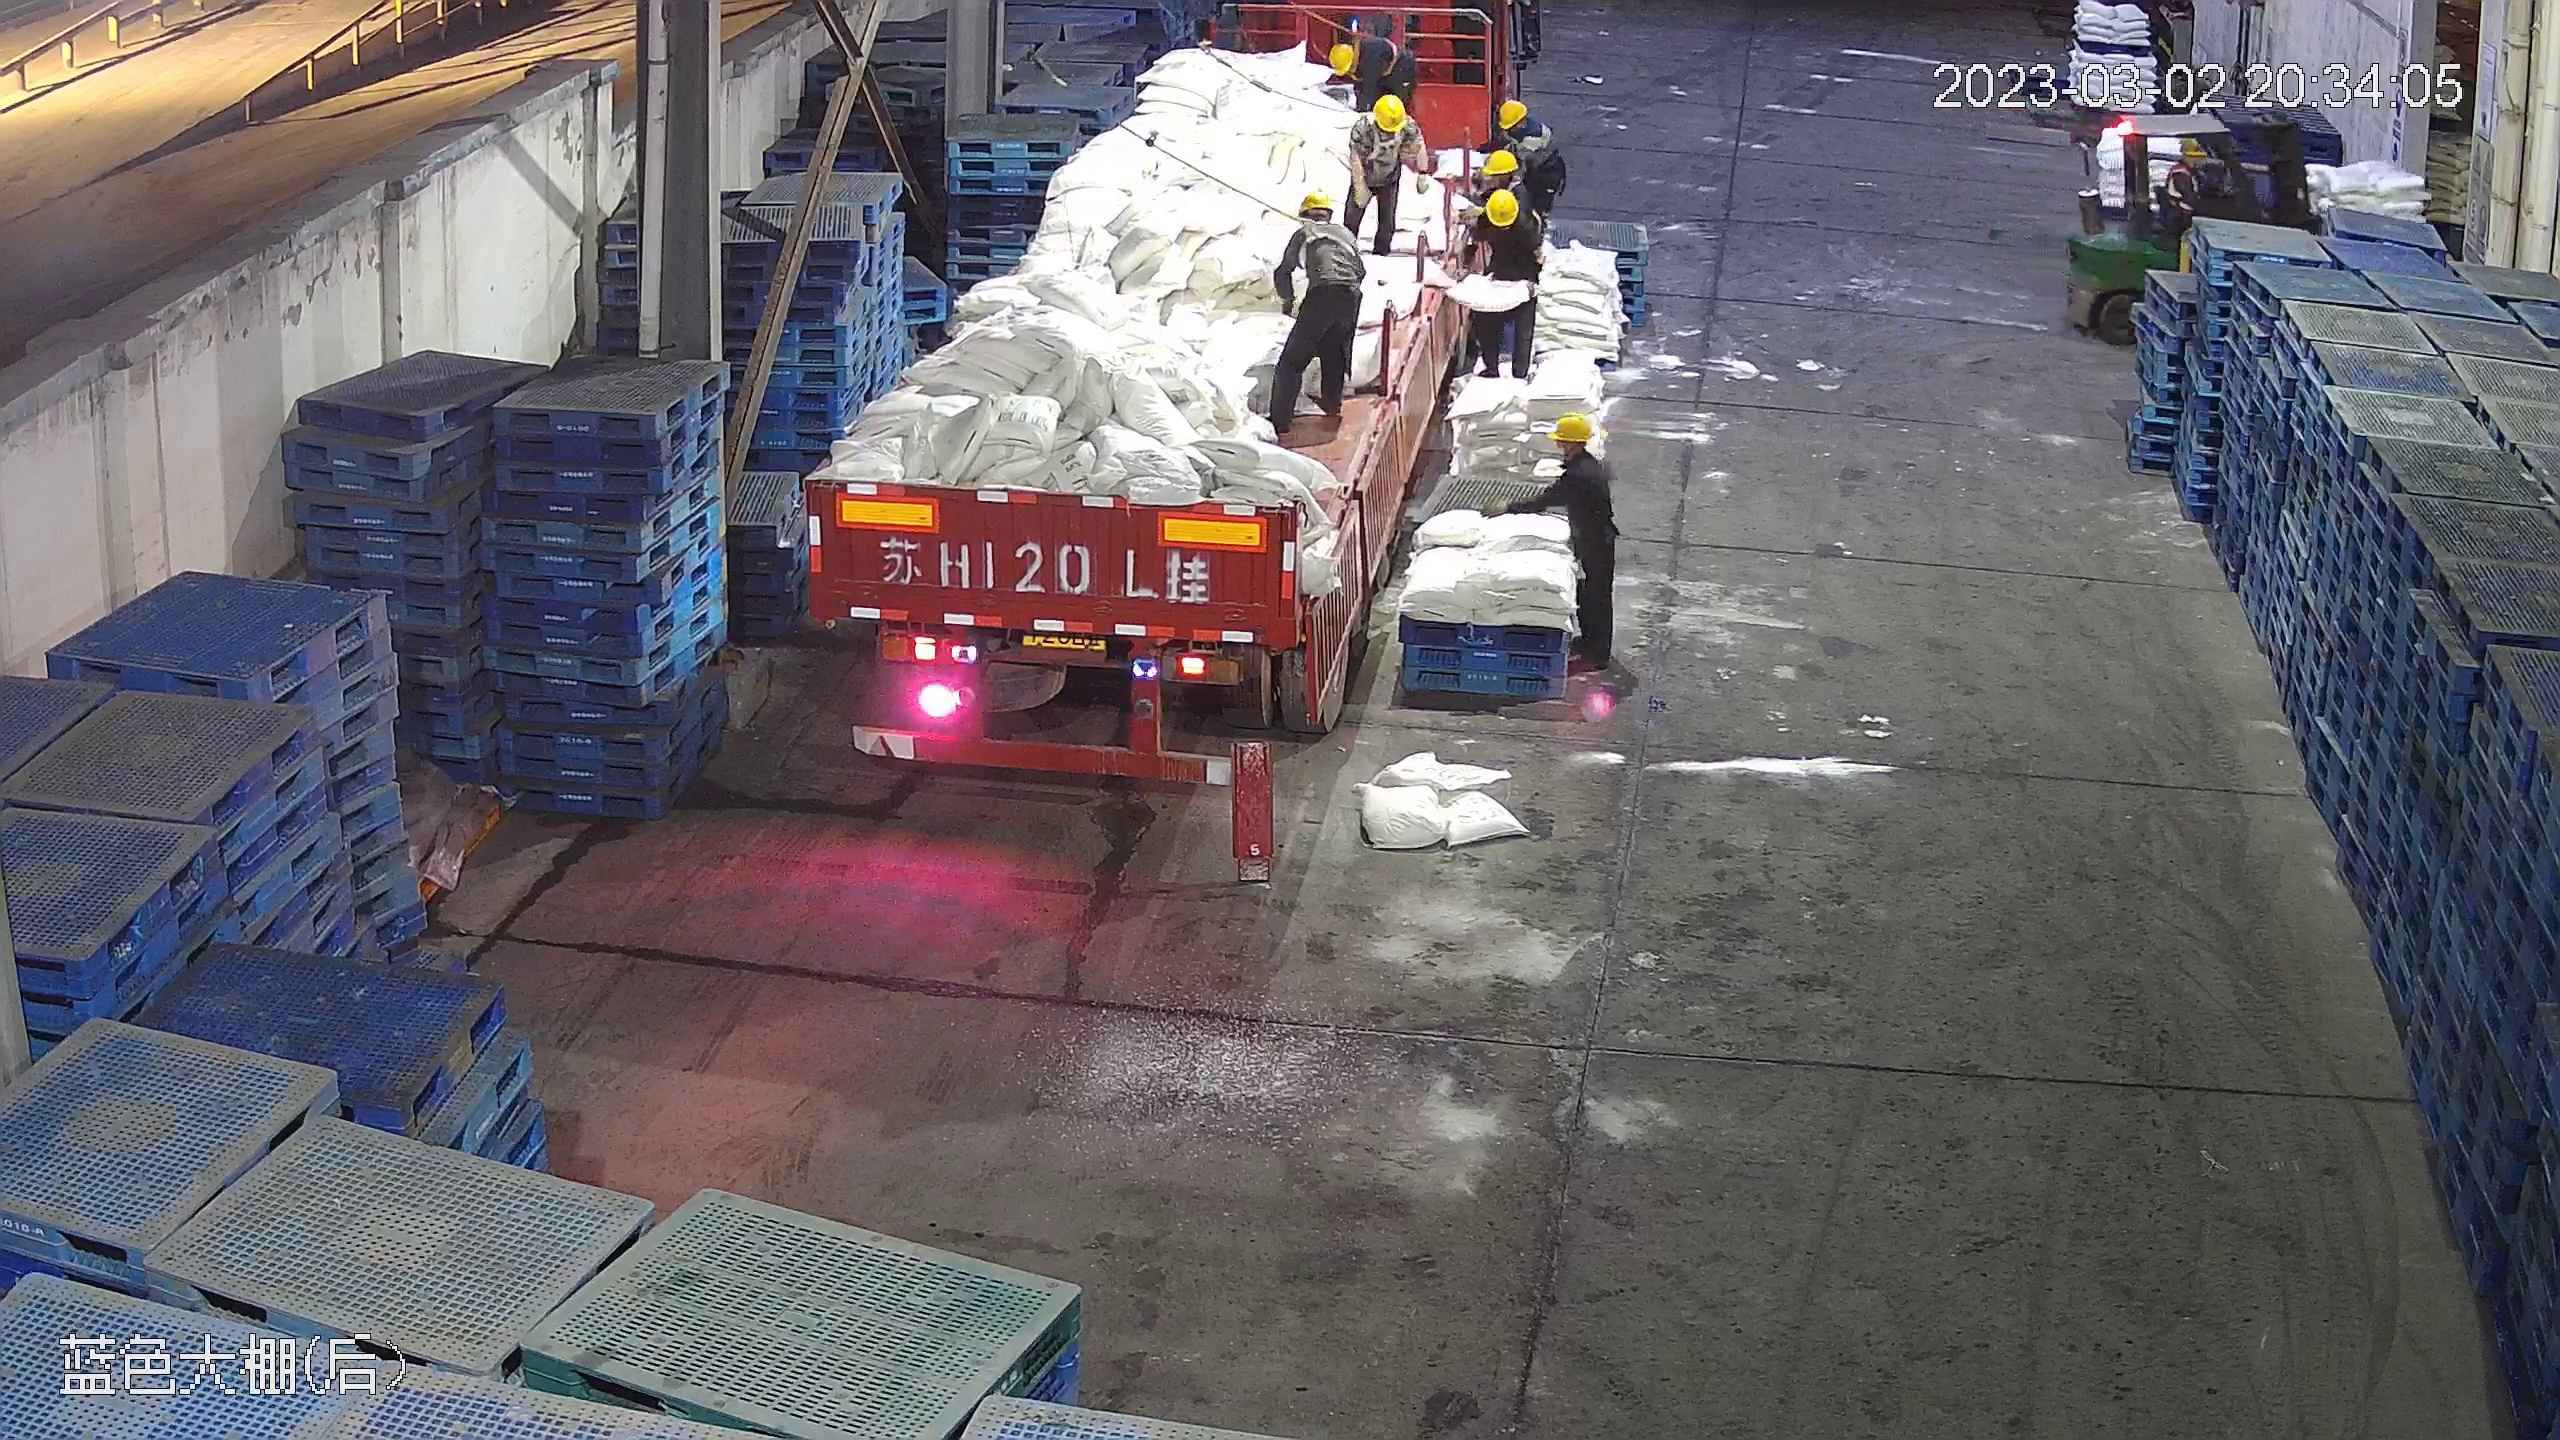belt: (1294, 209, 1358, 273), (1360, 35, 1402, 78), (1367, 134, 1404, 165)
head: (1537, 410, 1610, 503), (1283, 190, 1359, 260), (1347, 90, 1418, 155), (1470, 178, 1533, 250), (1327, 35, 1401, 89), (1499, 99, 1554, 156)
helmet: (1368, 92, 1410, 135), (1546, 410, 1596, 443), (1324, 40, 1358, 75), (1484, 148, 1519, 181), (1498, 99, 1530, 133), (1295, 189, 1333, 215), (2177, 135, 2209, 158)
people: (1495, 410, 1622, 676), (1260, 181, 1368, 433), (1461, 173, 1544, 381), (1338, 91, 1420, 247)
truck: (746, 1, 1544, 852)
